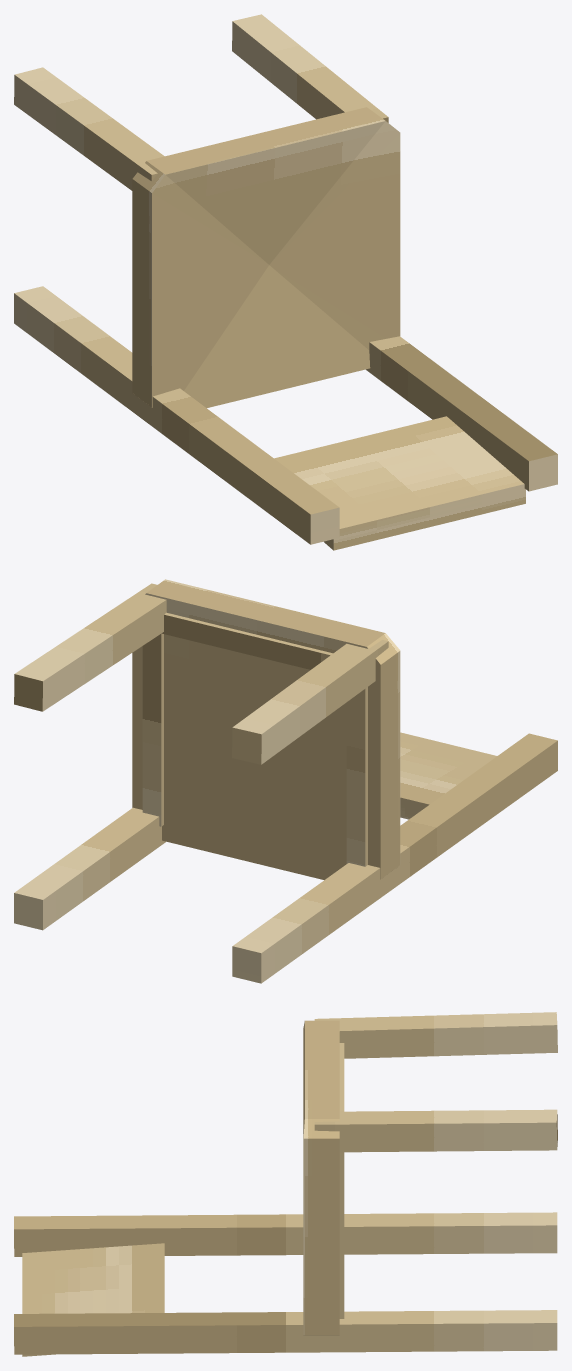
The model's file is pz_chair_seating_indoor_03_white_simple_fidelity_r1.obj.
3 views of the same model, one above another, from view 1: azimuth 30°, elevation 25°; view 2: azimuth 150°, elevation 25°; view 3: azimuth 270°, elevation 25° (orthographic). The views are drawn at different scales.
Parts seen in each view (by area): view 1: seat, wood, back; view 2: wood, seat, back; view 3: wood, seat, back.
Part boxes in pixels (x1,y1,x2,y2): seat: (132, 107, 400, 407); wood: (14, 14, 557, 544); back: (274, 416, 525, 550); wood: (14, 583, 557, 983); seat: (132, 579, 400, 879); back: (400, 732, 496, 819); wood: (14, 1012, 557, 1354); seat: (303, 1020, 339, 1335); back: (22, 1243, 164, 1356).
Size of the model in its own units: 0.4678 by 0.4843 by 0.9689.
1 material, 1 textured.
